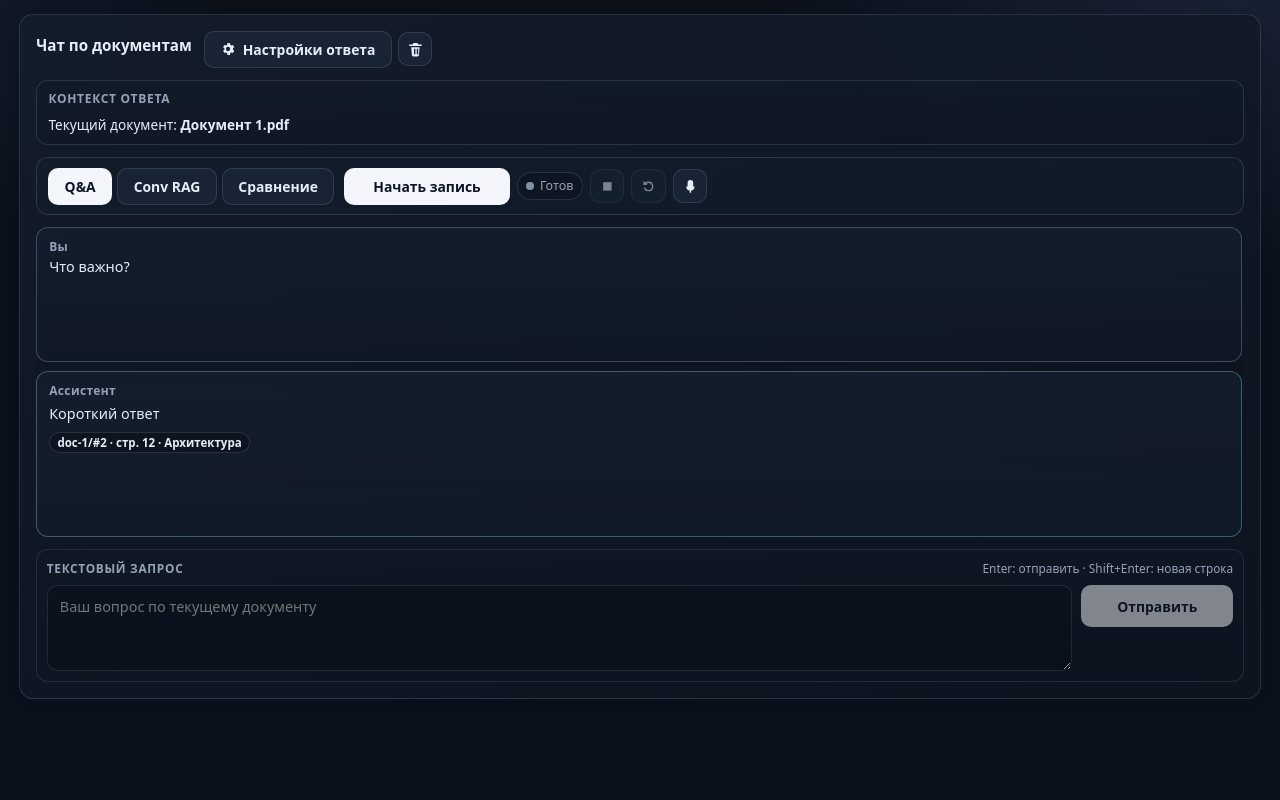
Test: ChatPanel smoke › opens source viewer from citation preview
This screenshot has width=1280, height=800.
Click the button "doc-1/#2 · стр. 12 · Архитектура". click: (150, 442)
box: [49, 432, 250, 453]
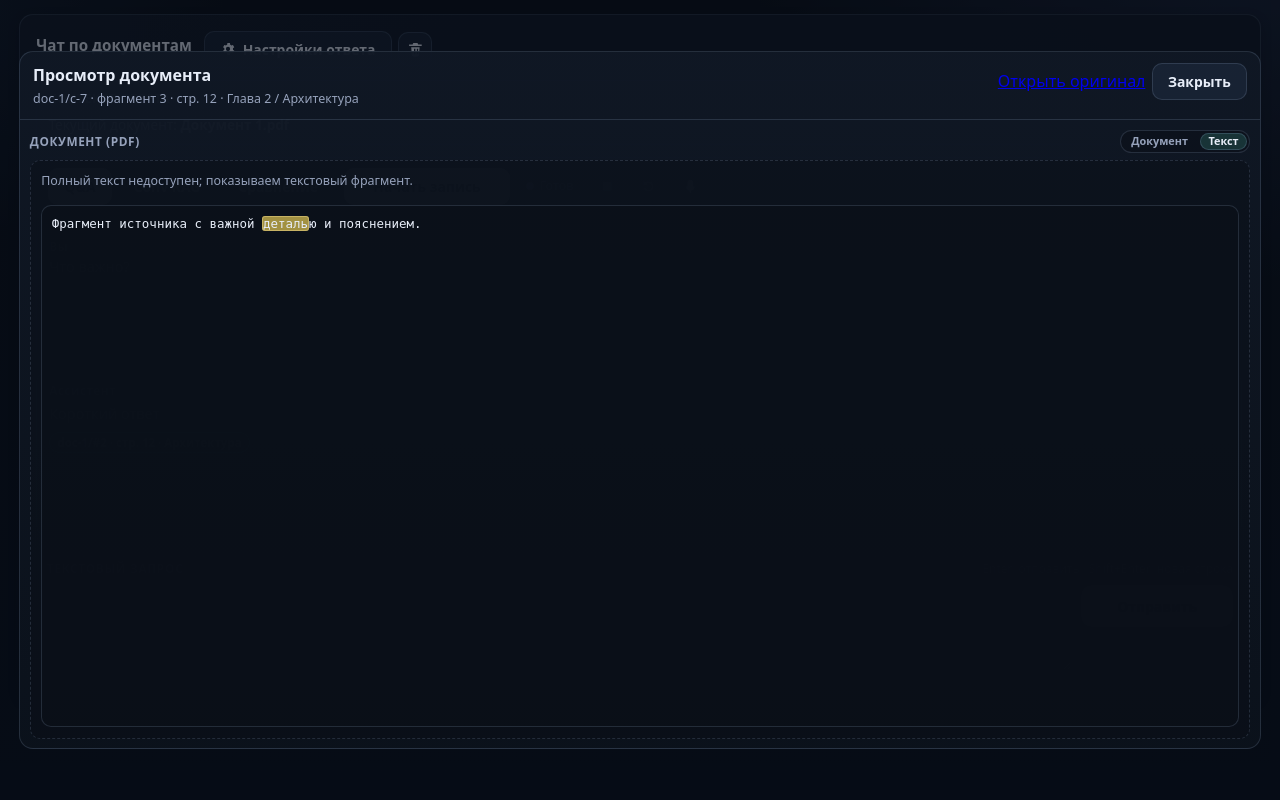
Result: the dialog "Просмотр документа" is shown
